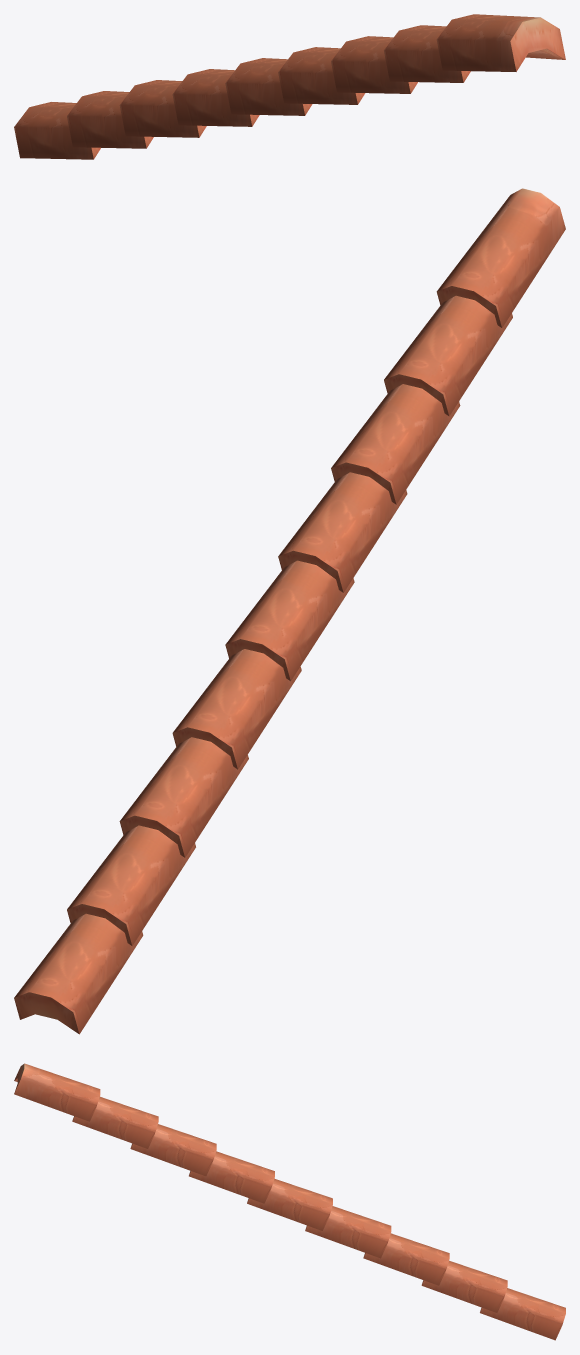
Rendered from SideSeam.fbx.
3 views of the same model, one above another, from view 1: azimuth 30°, elevation 25°; view 2: azimuth 150°, elevation 25°; view 3: azimuth 270°, elevation 25° (orthographic). The views are drawn at different scales.
Visible parts, largest first — view 1: Roof_sideSeam; view 2: Roof_sideSeam; view 3: Roof_sideSeam.
Part boxes in pixels (x1=…): Roof_sideSeam: x1=14, y1=14, x2=565, y2=159; Roof_sideSeam: x1=14, y1=188, x2=565, y2=1034; Roof_sideSeam: x1=14, y1=1063, x2=565, y2=1340.
Size of the model in its own units: 0.2144 by 3.13 by 1.67.
